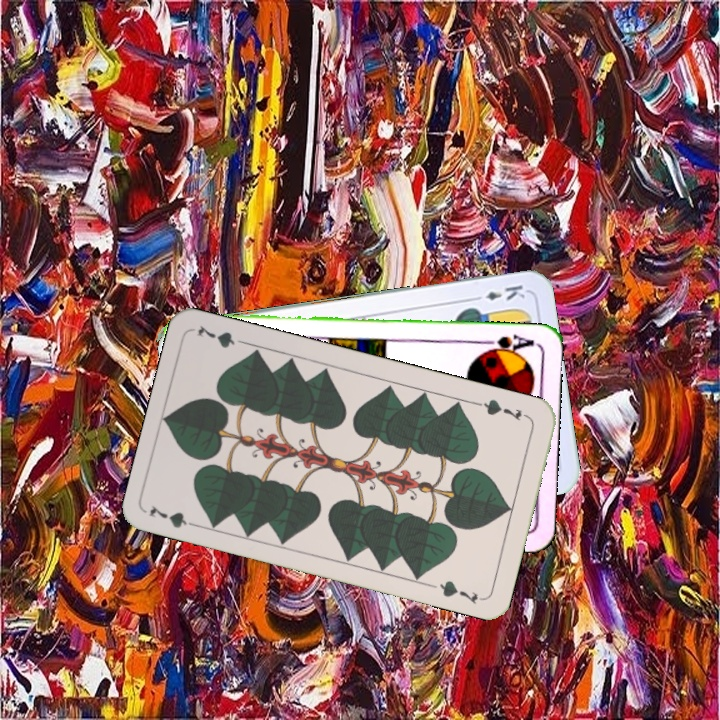EK: (468, 280, 528, 304)
G7: (145, 501, 203, 531), (473, 395, 532, 424)
SA: (477, 330, 537, 357)
